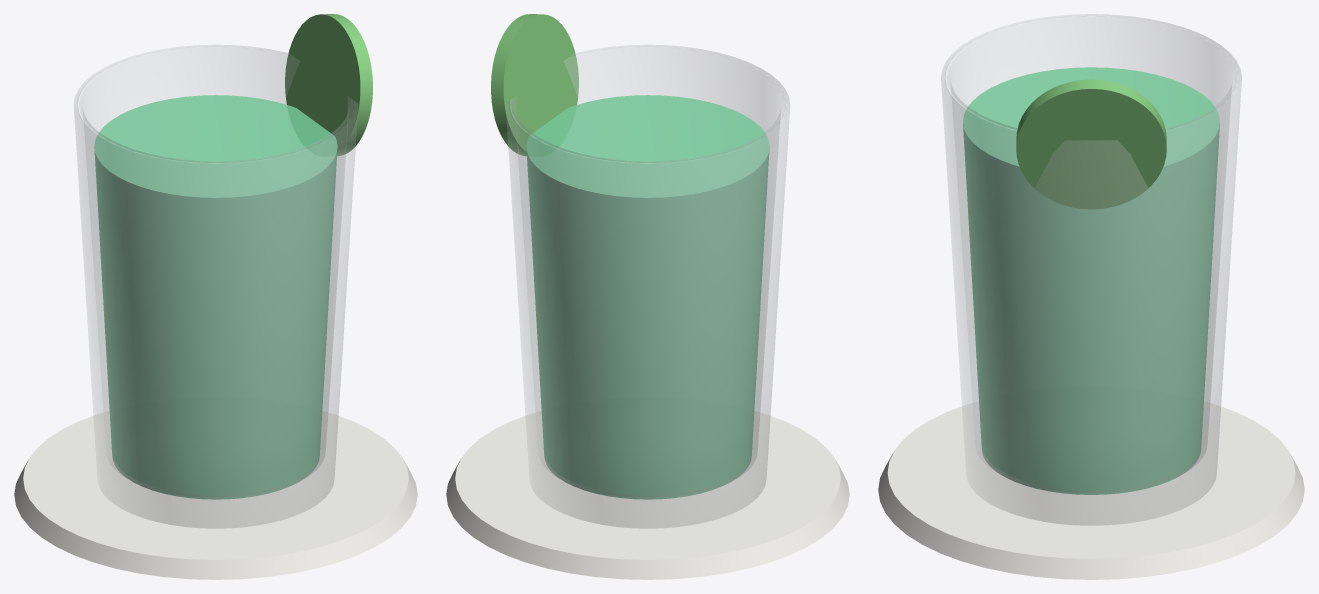
Rendered from kaffir-lime-mocktail-high.glb.
The picture shows the model from 3 angles, left to right: view 1: azimuth 30°, elevation 25°; view 2: azimuth 150°, elevation 25°; view 3: azimuth 270°, elevation 25°; orthographic projection. The views are drawn at different scales.
Parts seen in each view (by area): view 1: kaffir-lime-mocktail_Mat_Glass_Container_Node, kaffir-lime-mocktail_Mat_Beverage_Liquid_Node, kaffir-lime-mocktail_Mat_Ceramic_Plate_Node, kaffir-lime-mocktail_Mat_Fresh_Vegetables_Node; view 2: kaffir-lime-mocktail_Mat_Glass_Container_Node, kaffir-lime-mocktail_Mat_Beverage_Liquid_Node, kaffir-lime-mocktail_Mat_Ceramic_Plate_Node, kaffir-lime-mocktail_Mat_Fresh_Vegetables_Node; view 3: kaffir-lime-mocktail_Mat_Glass_Container_Node, kaffir-lime-mocktail_Mat_Beverage_Liquid_Node, kaffir-lime-mocktail_Mat_Ceramic_Plate_Node, kaffir-lime-mocktail_Mat_Fresh_Vegetables_Node.
Part boxes in pixels (bbox=[...]): kaffir-lime-mocktail_Mat_Glass_Container_Node: bbox=[74, 45, 357, 528]; kaffir-lime-mocktail_Mat_Beverage_Liquid_Node: bbox=[94, 95, 337, 499]; kaffir-lime-mocktail_Mat_Ceramic_Plate_Node: bbox=[14, 411, 417, 579]; kaffir-lime-mocktail_Mat_Fresh_Vegetables_Node: bbox=[285, 14, 372, 156]; kaffir-lime-mocktail_Mat_Glass_Container_Node: bbox=[506, 45, 789, 528]; kaffir-lime-mocktail_Mat_Beverage_Liquid_Node: bbox=[526, 95, 769, 499]; kaffir-lime-mocktail_Mat_Ceramic_Plate_Node: bbox=[446, 411, 849, 579]; kaffir-lime-mocktail_Mat_Fresh_Vegetables_Node: bbox=[491, 14, 578, 156]; kaffir-lime-mocktail_Mat_Glass_Container_Node: bbox=[941, 14, 1241, 525]; kaffir-lime-mocktail_Mat_Beverage_Liquid_Node: bbox=[963, 67, 1219, 494]; kaffir-lime-mocktail_Mat_Ceramic_Plate_Node: bbox=[878, 401, 1304, 579]; kaffir-lime-mocktail_Mat_Fresh_Vegetables_Node: bbox=[1016, 79, 1166, 209].
Size of the model in its own units: 0.136 by 0.166 by 0.136.
